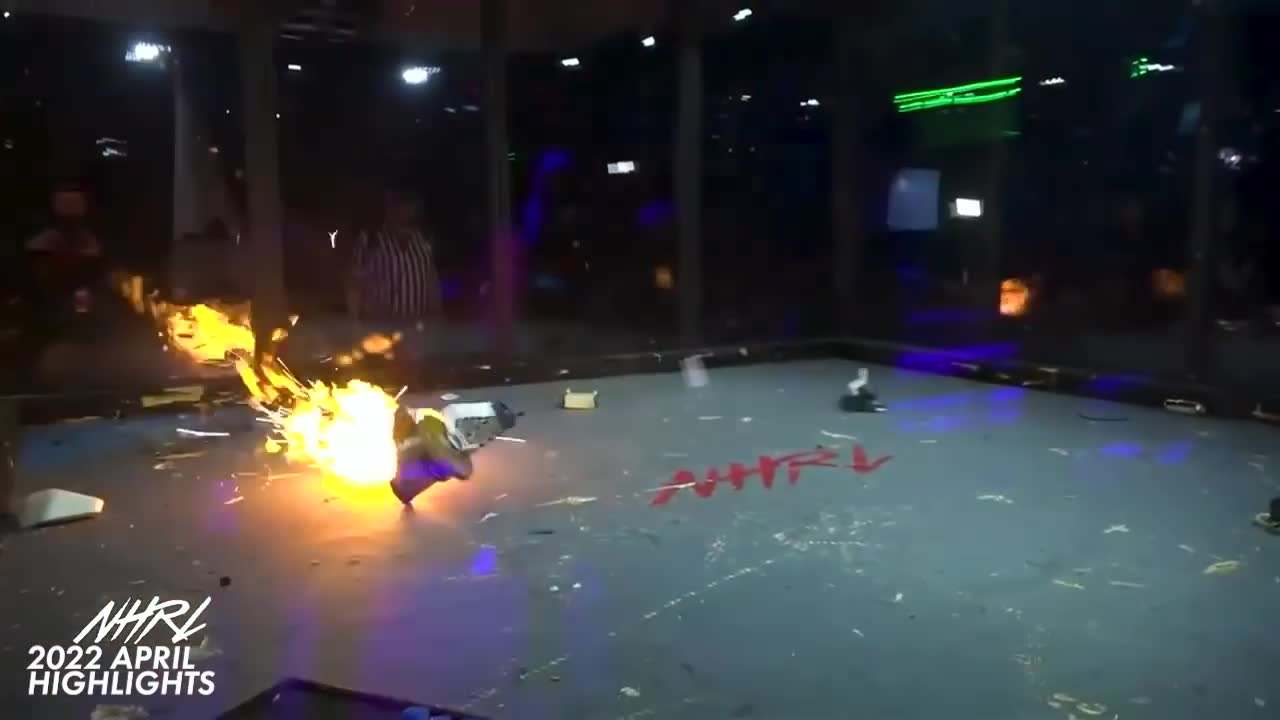belt: (1079, 412, 1131, 429)
combatbot: (390, 393, 517, 509), (1250, 491, 1280, 539), (840, 392, 886, 415)
debris: (6, 480, 111, 530)
minibot: (559, 385, 599, 412)
